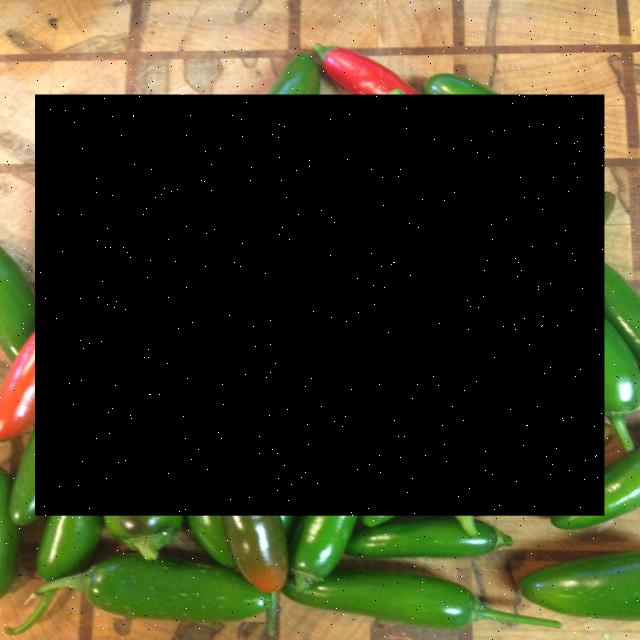Chili_Pepper: (35, 95, 604, 516)
